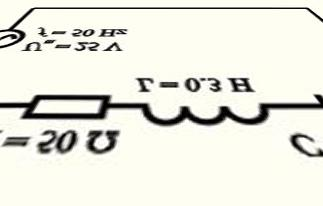inductor: (132, 90, 280, 136)
